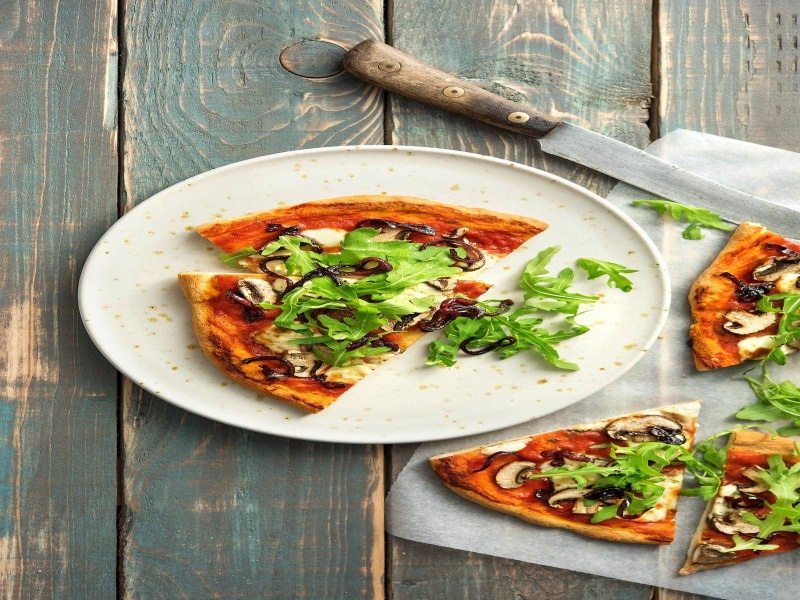champignon: (599, 412, 686, 446), (719, 303, 783, 337), (231, 275, 285, 314), (493, 456, 540, 492)
